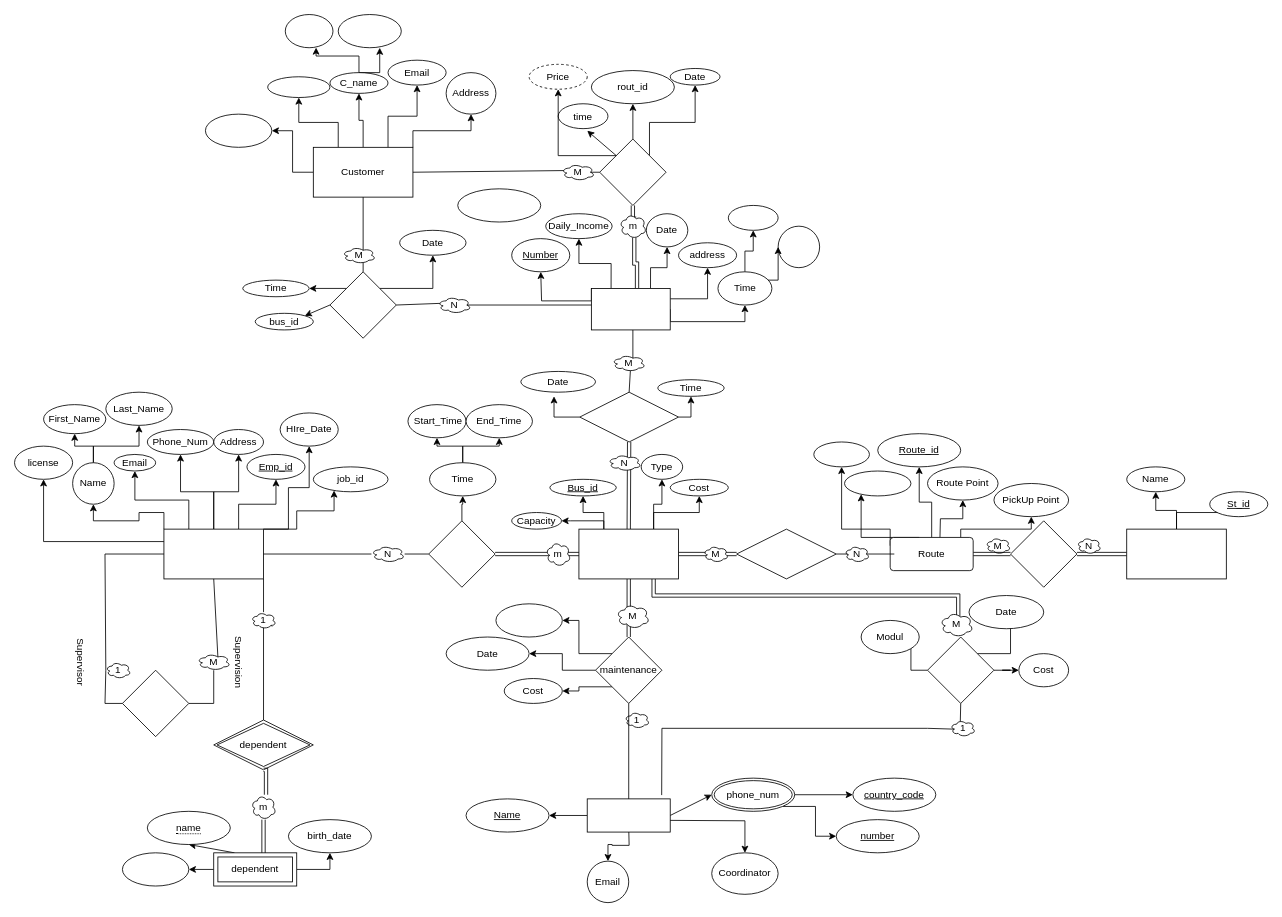
The diagram is 1282 pixels wide and 917 high, and some of its shapes have lost their labels. The box of each missing label's shape, as (x1, y1, x2, y2) in pixels:
Attribute: (457, 188, 541, 222)
book office: (591, 288, 670, 330)
BUS: (578, 528, 679, 579)
Buy: (927, 636, 994, 703)
company: (586, 798, 670, 832)
Complaint: (329, 271, 396, 338)
Drive: (428, 520, 495, 587)
Duration: (813, 441, 869, 467)
Employee: (163, 528, 264, 579)
firstName: (284, 14, 333, 48)
lastName: (337, 14, 401, 48)
manage: (122, 669, 189, 737)
mobile_no: (205, 113, 272, 147)
Registration: (579, 391, 679, 442)
relationship: (122, 852, 189, 886)
Request: (599, 138, 666, 205)
Route_Ticket: (844, 470, 911, 496)
Spare_Parts: (495, 603, 562, 637)
ssn: (267, 76, 330, 98)
Station: (1126, 528, 1226, 579)
Station on route: (1010, 520, 1077, 587)
T_Close: (727, 205, 778, 230)
T_Open: (777, 225, 820, 268)
travel through: (736, 528, 836, 579)
